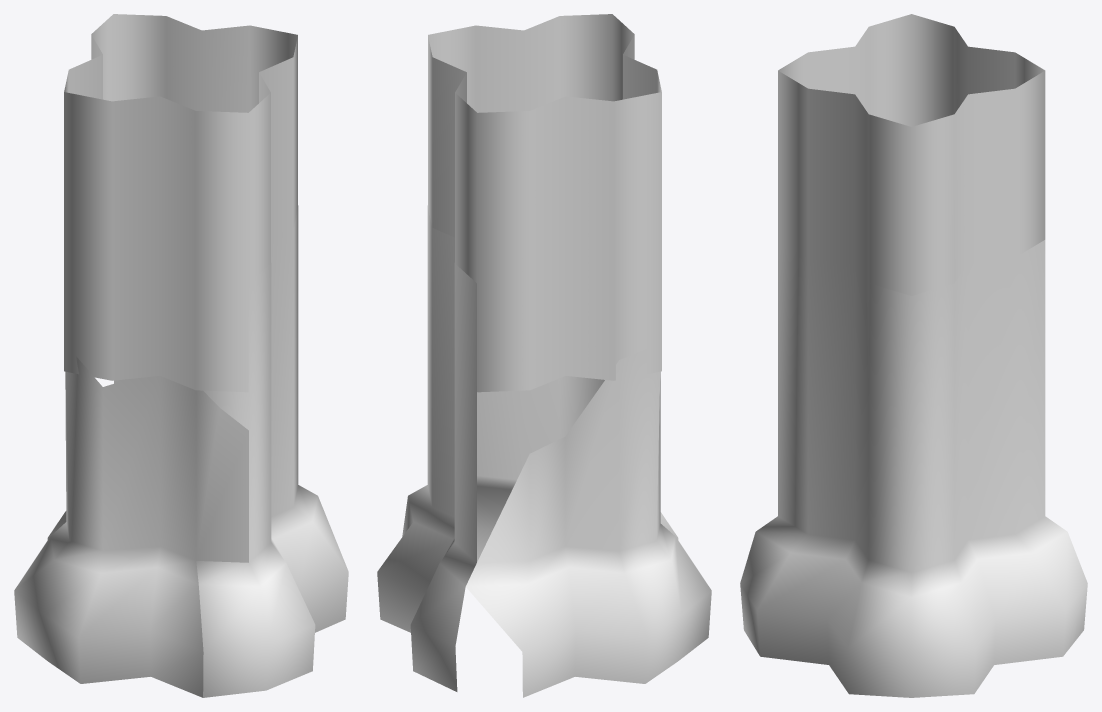
Rendered from SM_Env_Vine_Pillar_Ornate_Rounded_02.fbx.
3 views of the same model, side by side, from view 1: azimuth 30°, elevation 25°; view 2: azimuth 150°, elevation 25°; view 3: azimuth 270°, elevation 25° (orthographic).
Parts seen in each view (by area): view 1: SM_Env_Vine_Pillar_Ornate_Rounded_02; view 2: SM_Env_Vine_Pillar_Ornate_Rounded_02; view 3: SM_Env_Vine_Pillar_Ornate_Rounded_02.
Boxes of the visible parts, x1,y1,x2,y2 form: SM_Env_Vine_Pillar_Ornate_Rounded_02: [14, 14, 348, 697]; SM_Env_Vine_Pillar_Ornate_Rounded_02: [377, 14, 711, 697]; SM_Env_Vine_Pillar_Ornate_Rounded_02: [740, 14, 1087, 697].
Bounding box in the file's own units: 116 × 224 × 126.
